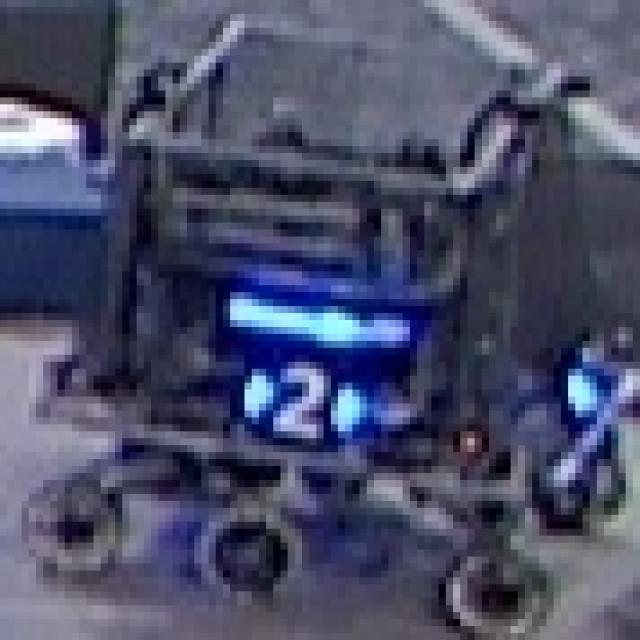B2: (230, 348, 374, 438)
